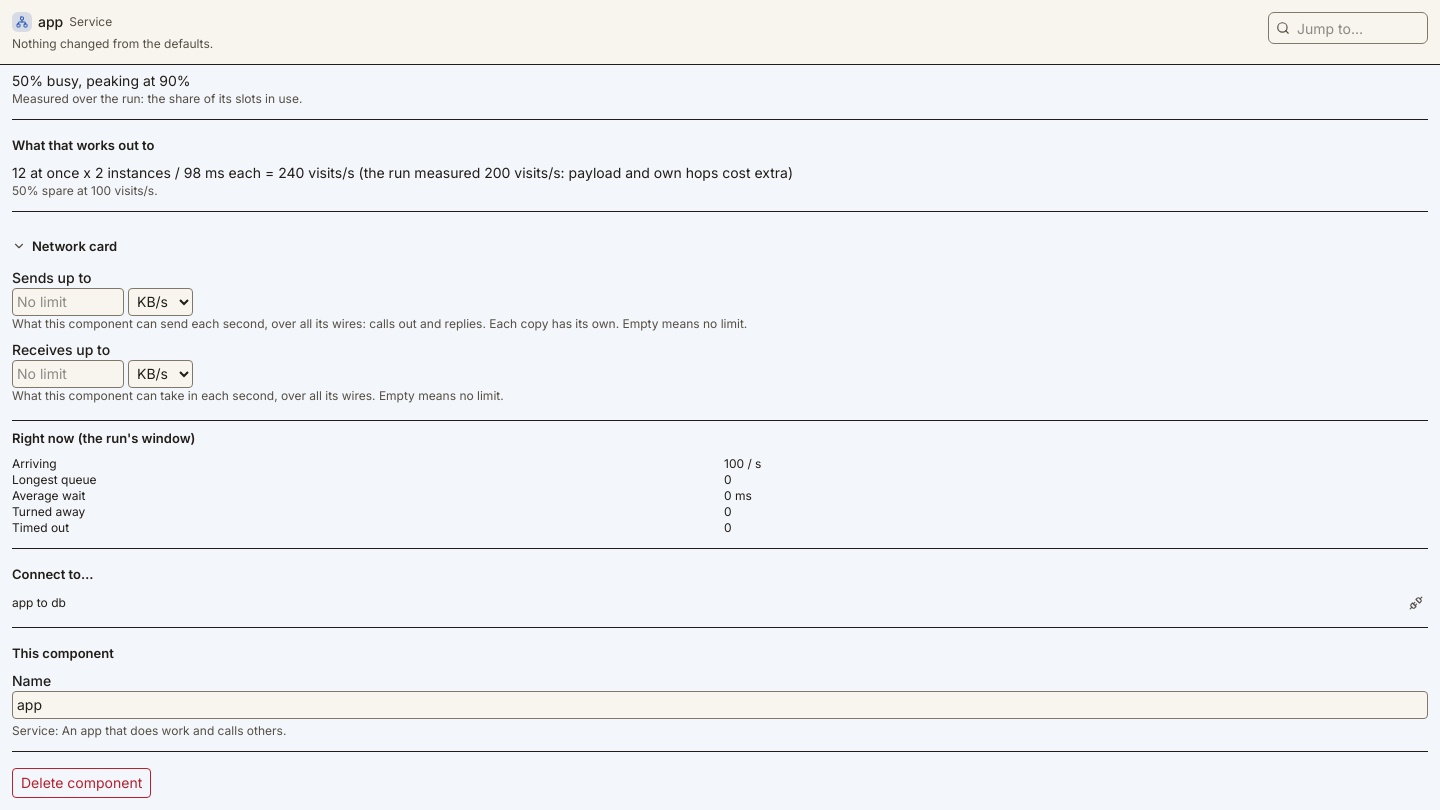
a_rename_tells_the_panel_to_follow_and_a_refused_one_restores_the_name
(page scrolled)
Replace the text in the field labelled "Name" with "api" at (720, 705), box [12,691,1428,719]
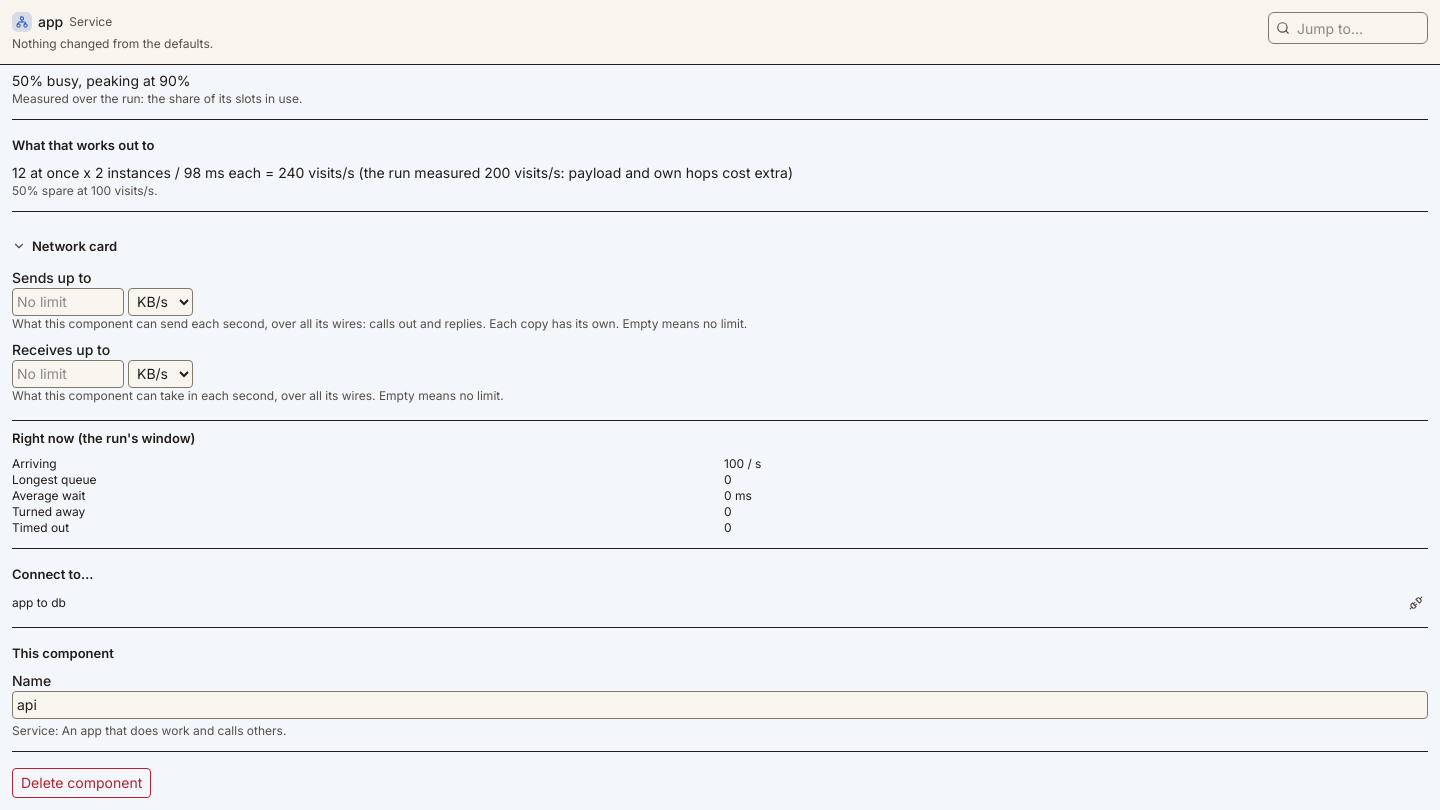
Replace the text in the field labelled "Name" with "db" at (720, 705), box [12,691,1428,719]
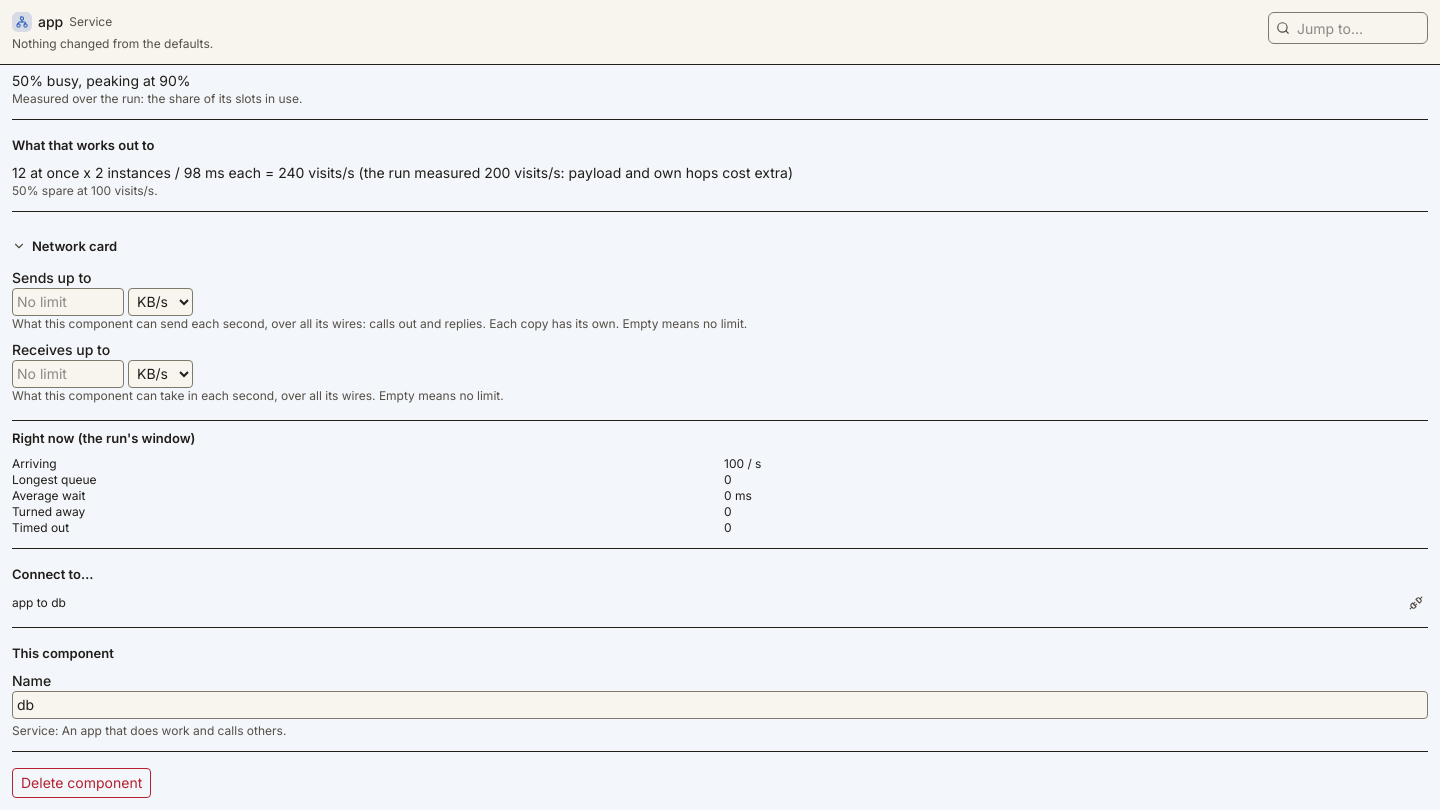
Leave the field labelled "Name", box [12,691,1428,719]
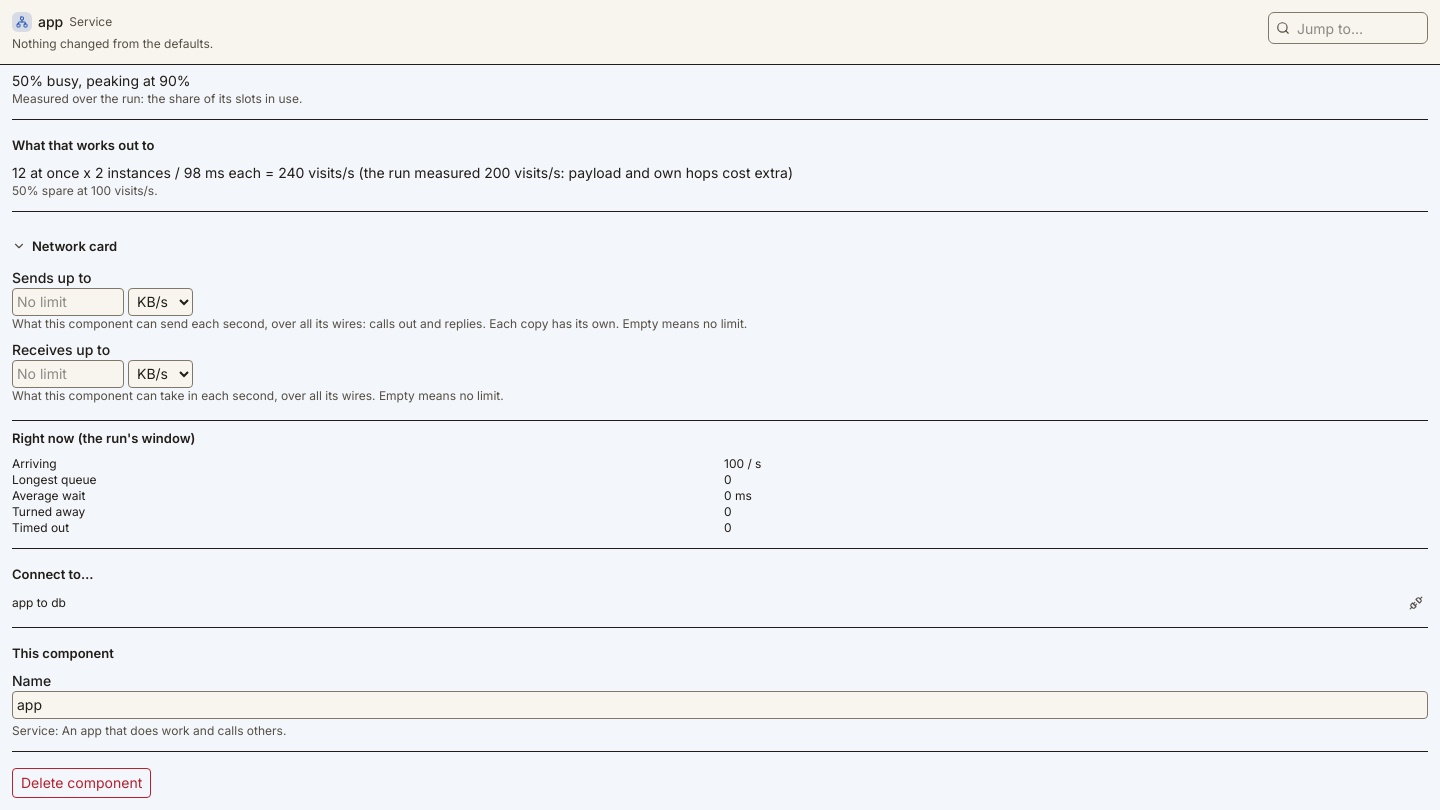
Expected: the field labelled "Name" holds "app", [12,691,1428,719]
